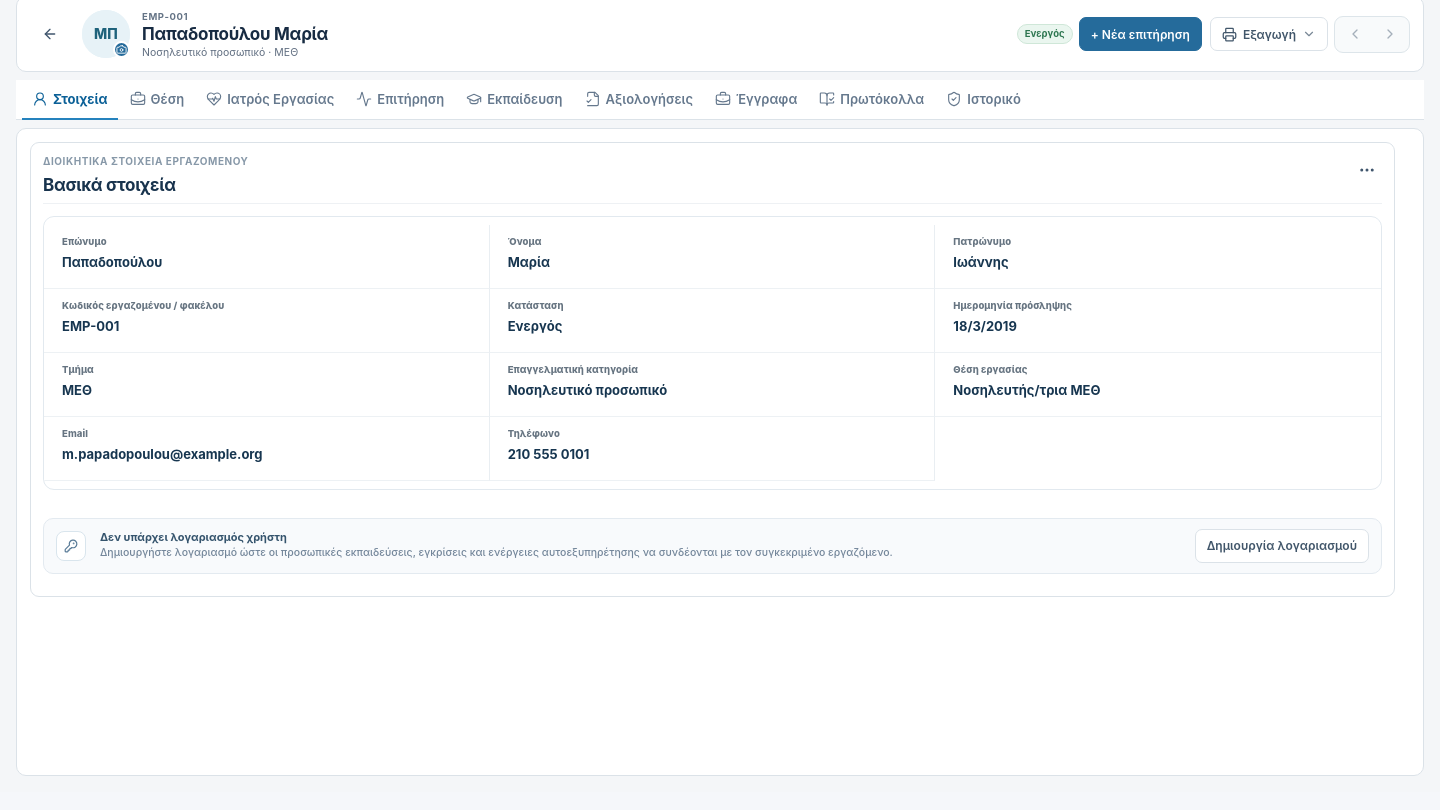
Scenario: documents and history › keeps documents and certifications in the shared documents workspace
Expected: the tab "Στοιχεία" is shown, [22,80,118,120]
Click the tab "Έγγραφα" at x=756, y=100, box [705,80,807,120]
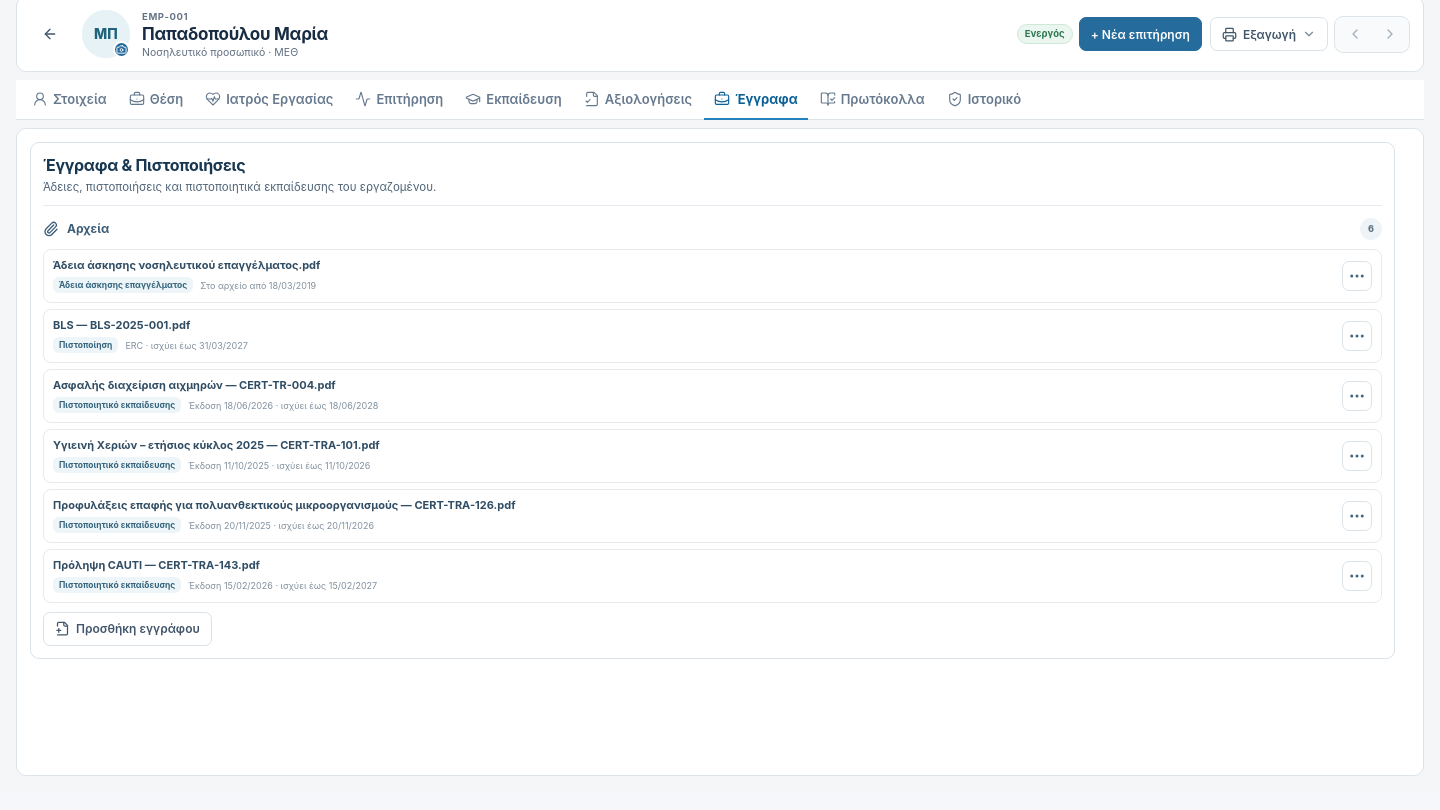
Expected: the heading "Έγγραφα & Πιστοποιήσεις" is shown, [43,155,245,175]
Expected: the text "BLS — BLS-2025-001.pdf" is shown, [53,318,190,332]
Expected: the button "Προσθήκη εγγράφου" is shown, [43,612,212,646]
